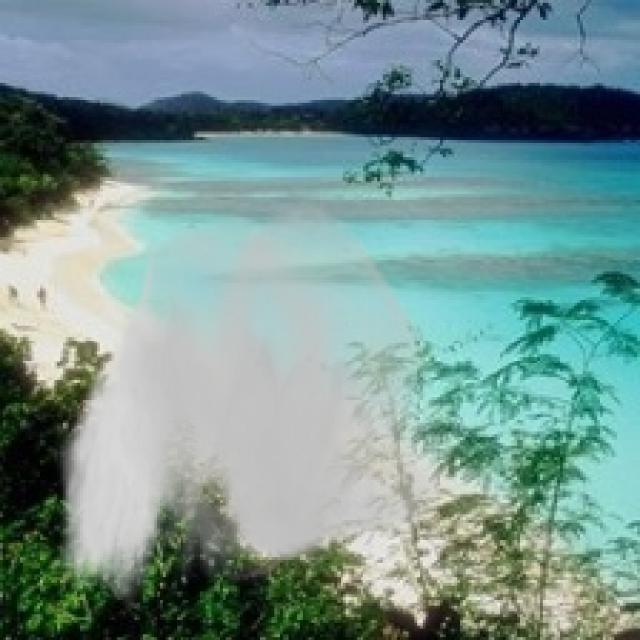smoke: (54, 192, 440, 608)
